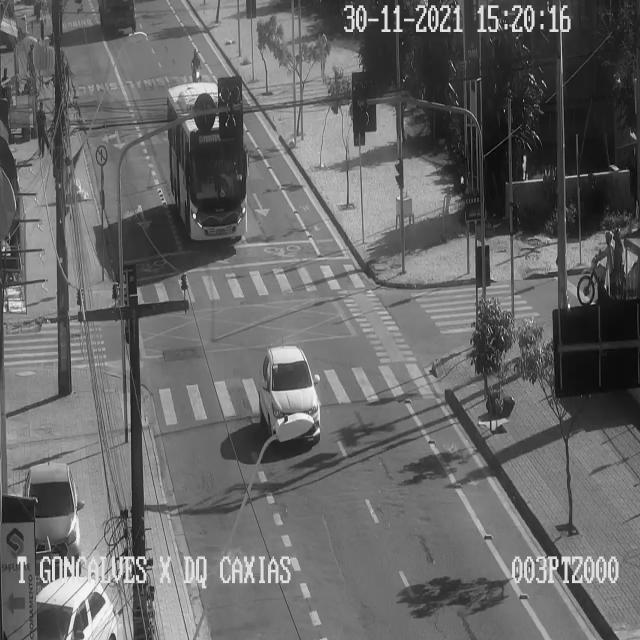Bus: (166, 84, 248, 239)
Car: (261, 346, 321, 444), (22, 464, 84, 556), (35, 576, 117, 639)
Motorcycle: (577, 230, 635, 303), (192, 51, 202, 84)
Truck: (103, 0, 140, 44)
